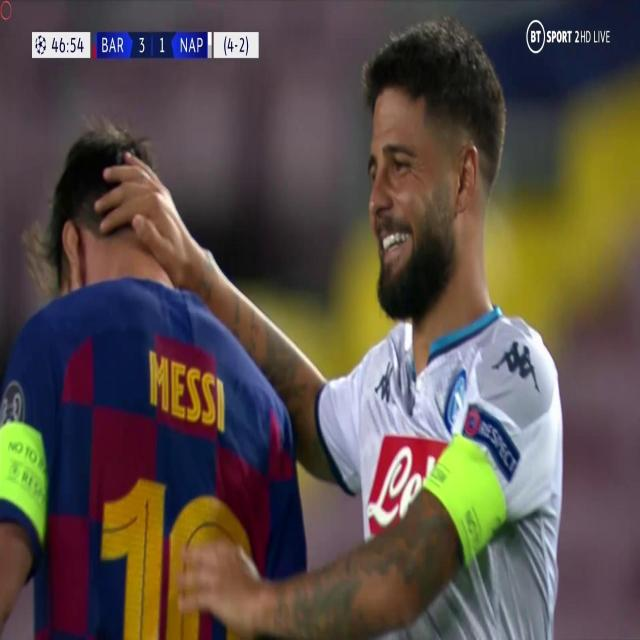player: (289, 2, 594, 640), (0, 93, 297, 640)
